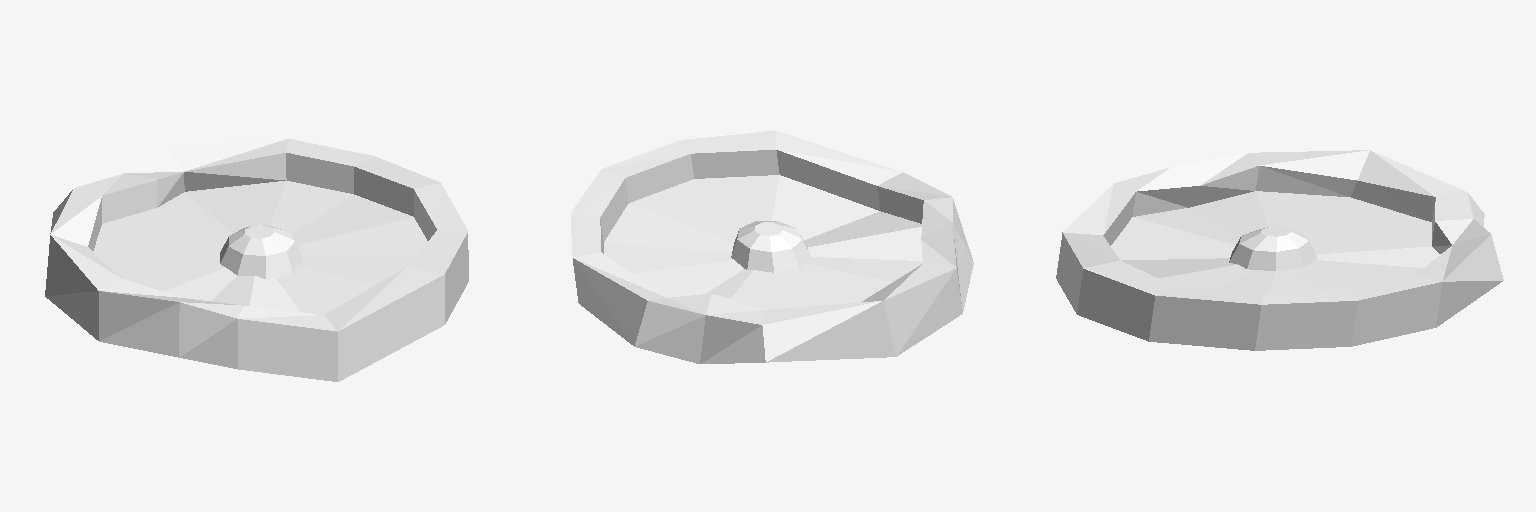
File: pedestal_viking.obj
3 renders of one model, left to right at view 1: azimuth 30°, elevation 25°; view 2: azimuth 150°, elevation 25°; view 3: azimuth 270°, elevation 25°, orthographic.
Visible parts, largest first — view 1: mesh_all1.002_Mesh.002; view 2: mesh_all1.002_Mesh.002; view 3: mesh_all1.002_Mesh.002.
Boxes of the visible parts, <box> form: mesh_all1.002_Mesh.002: <box>45,139,468,381</box>; mesh_all1.002_Mesh.002: <box>571,130,973,363</box>; mesh_all1.002_Mesh.002: <box>1056,150,1503,350</box>.
Size of the model in its own units: 1.68 by 0.3382 by 1.85.